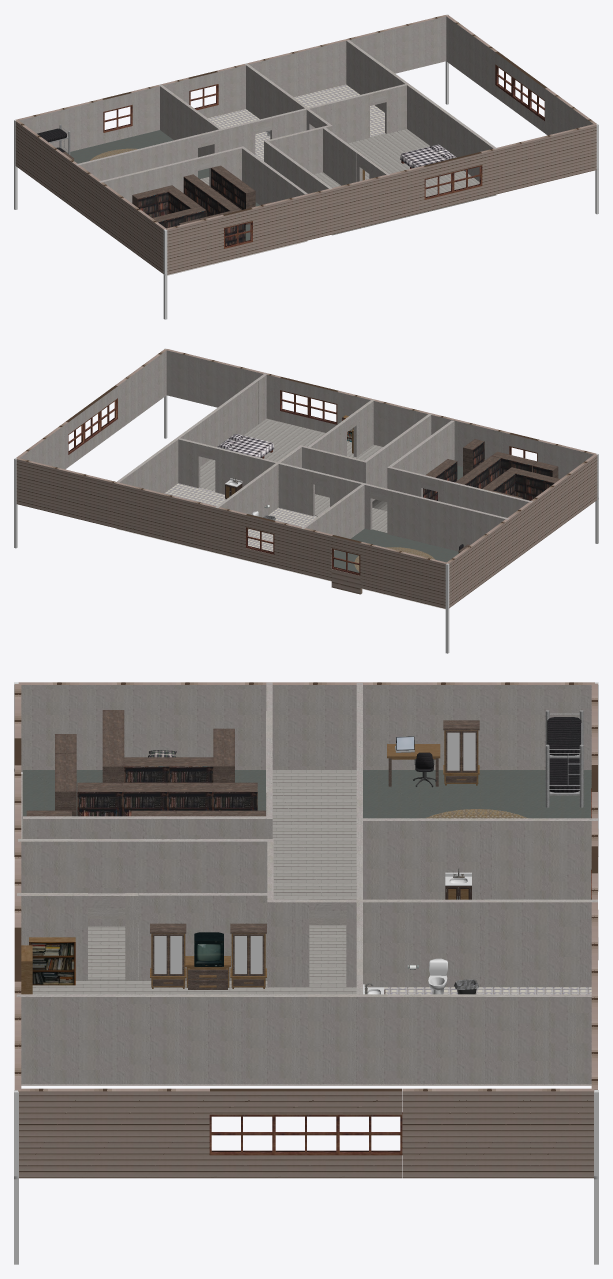
File: secondFllor.glb
3 renders of one model, top to bottom at view 1: azimuth 30°, elevation 25°; view 2: azimuth 150°, elevation 25°; view 3: azimuth 270°, elevation 25°, orthographic. The views are drawn at different scales.
Parts seen in each view (by area): view 1: 2ndfloor_innerwalls-col.007, upper_floor-col.002, outerwalls-androof-col.090, outerwalls-androof-col.088, outerwalls-androof-col.050, outerwalls-androof-col.089, outerwalls-androof-col.080, outerwalls-androof-col.084, outerwalls-androof-col.011, outerwalls-androof-col.077, outerwalls-androof-col.079, outerwalls-androof-col.082 (+37 smaller); view 2: 2ndfloor_innerwalls-col.007, upper_floor-col.002, outerwalls-androof-col.011, outerwalls-androof-col.058, outerwalls-androof-col.056, outerwalls-androof-col.048, outerwalls-androof-col.061, outerwalls-androof-col.050, outerwalls-androof-col.057, outerwalls-androof-col.059, outerwalls-androof-col.060, outerwalls-androof-col.049 (+37 smaller); view 3: 2ndfloor_innerwalls-col.007, upper_floor-col.002, outerwalls-androof-col.014, outerwalls-androof-col.015, outerwalls-androof-col.013, outerwalls-androof-col.018, outerwalls-androof-col.019, outerwalls-androof-col.020, outerwalls-androof-col.043, outerwalls-androof-col.046, outerwalls-androof-col.044, outerwalls-androof-col.041 (+32 smaller).
Part boxes in pixels (x1,y1,x2,y2): 2ndfloor_innerwalls-col.007: (76,40,497,205); upper_floor-col.002: (67,84,496,275); outerwalls-androof-col.090: (337,180,367,232); outerwalls-androof-col.088: (509,138,539,190); outerwalls-androof-col.050: (73,98,103,150); outerwalls-androof-col.089: (538,131,567,183); outerwalls-androof-col.080: (251,201,281,253); outerwalls-androof-col.084: (395,166,424,218); outerwalls-androof-col.011: (417,15,446,67); outerwalls-androof-col.077: (166,222,195,274); outerwalls-androof-col.079: (280,194,309,246); outerwalls-androof-col.082: (194,215,223,267); 2ndfloor_innerwalls-col.007: (117,373,532,551); upper_floor-col.002: (117,418,462,609); outerwalls-androof-col.011: (16,458,46,510); outerwalls-androof-col.058: (102,479,132,531); outerwalls-androof-col.056: (188,500,217,552); outerwalls-androof-col.048: (417,556,447,608); outerwalls-androof-col.061: (160,493,189,545); outerwalls-androof-col.050: (360,542,390,594); outerwalls-androof-col.057: (131,486,160,538); outerwalls-androof-col.059: (74,472,103,524); outerwalls-androof-col.060: (45,465,74,517); outerwalls-androof-col.049: (389,549,418,601); 2ndfloor_innerwalls-col.007: (16,682,597,1083); upper_floor-col.002: (21,770,591,1085); outerwalls-androof-col.014: (466,1088,530,1178); outerwalls-androof-col.015: (402,1088,466,1178); outerwalls-androof-col.013: (530,1088,594,1178); outerwalls-androof-col.018: (146,1088,209,1178); outerwalls-androof-col.019: (82,1088,145,1178); outerwalls-androof-col.020: (18,1088,81,1178); outerwalls-androof-col.043: (274,682,338,769); outerwalls-androof-col.046: (466,682,530,769); outerwalls-androof-col.044: (338,682,402,769); outerwalls-androof-col.041: (146,682,210,757).
Bounding box in the file's own units: 30.28 × 5.95 × 18.27.
29 materials, 22 textured.
